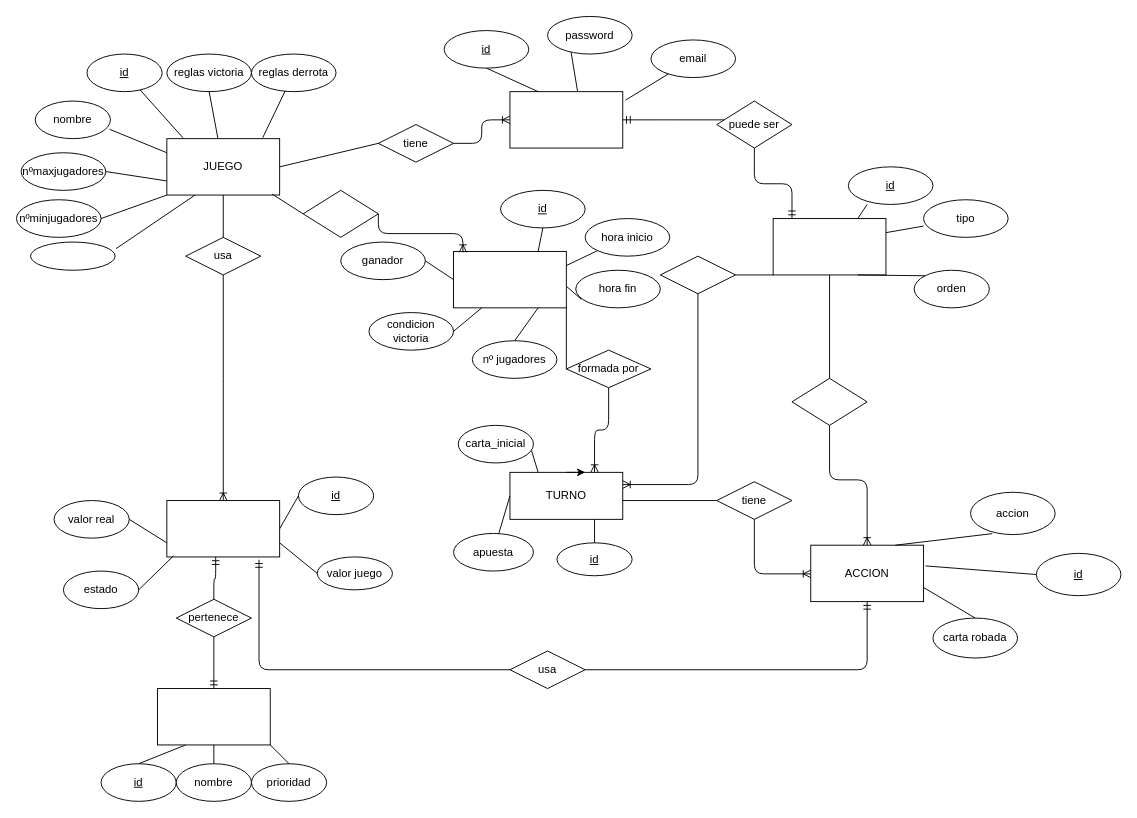
Image size: 1137x818. Some labels were removed from this diagram. The shapes that lost their labels are listed below. From the top down, each one's centre as x and y in pixels, then its label:
At (x=566, y=119): "JUGADOR".
At (x=340, y=213): "genera".
At (x=72, y=255): "baraja".
At (x=829, y=246): "PARTICIPANTE".
At (x=509, y=279): "PARTIDA".
At (x=697, y=274): "juega".
At (x=829, y=401): "realiza".
At (x=223, y=528): "CARTA".
At (x=213, y=716): "PALO".
